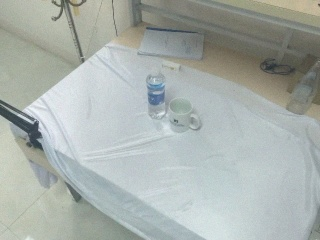bottle: (286, 59, 320, 115), (146, 66, 166, 120)
cup: (167, 97, 201, 133)
